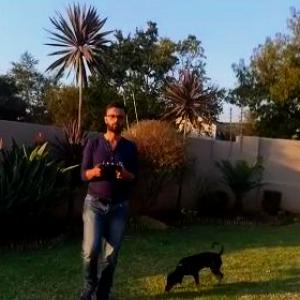follow: (75, 99, 143, 299)
null: (163, 236, 227, 294)
